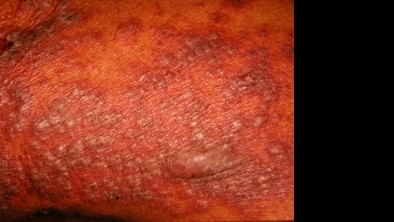SJS-TEN: (0, 0, 296, 222)
